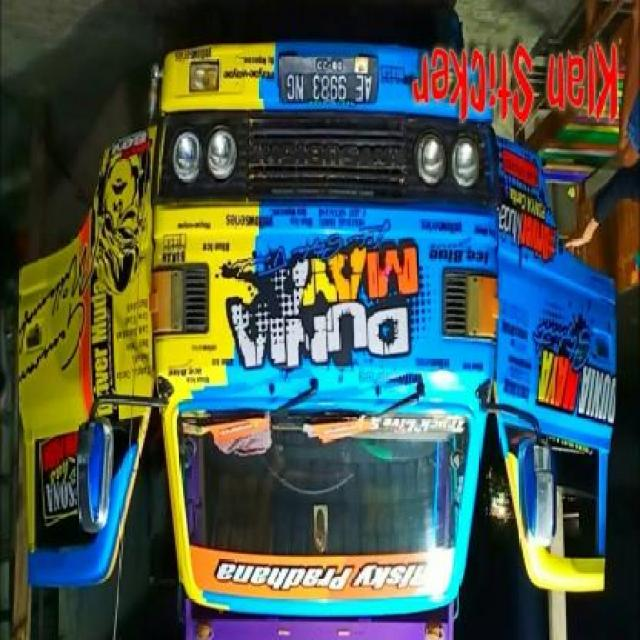truck: (16, 3, 619, 621)
